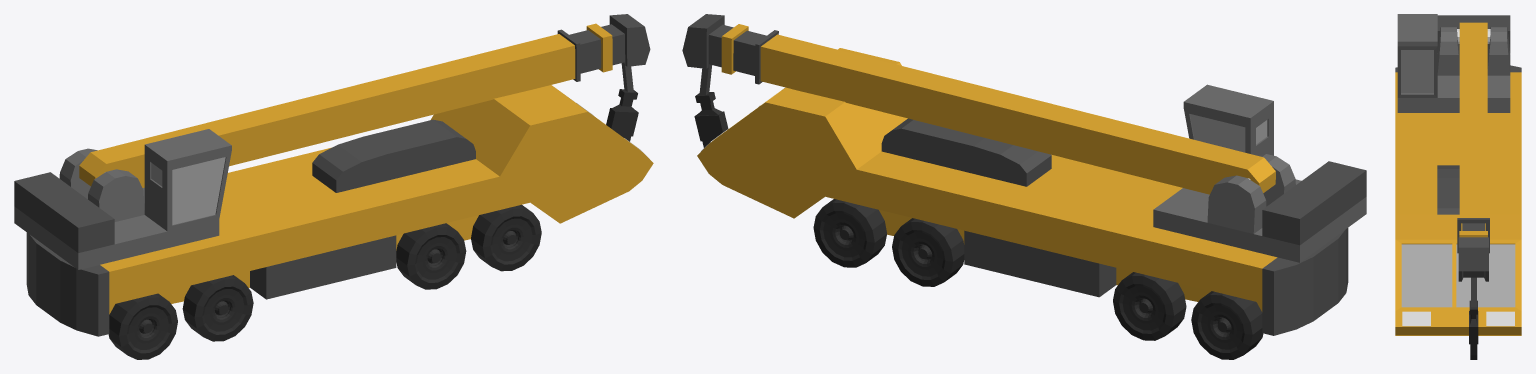
The picture shows the model from 3 angles, left to right: view 1: azimuth 30°, elevation 25°; view 2: azimuth 150°, elevation 25°; view 3: azimuth 270°, elevation 25°; orthographic projection. The views are drawn at different scales.
Parts seen in each view (by area): view 1: B-7, Cube.048, Cube.500, Cylinder.086, Cylinder.052, Cylinder.082, Cylinder.084, Cube.049, Cube.054; view 2: B-7, Cube.048, Cube.500, Cylinder.083, Cylinder.087, Cylinder.053, Cylinder.085, Cube.049, Cube.054; view 3: B-7, Cube.500, Cube.048, Cube.049, Cube.054, Cube.091.
Part boxes in pixels (x1,y1,x2,y2): B-7: [26, 85, 653, 336]; Cube.048: [79, 29, 580, 187]; Cube.500: [14, 129, 231, 269]; Cylinder.086: [182, 275, 253, 341]; Cylinder.052: [396, 223, 466, 289]; Cylinder.082: [471, 204, 541, 271]; Cylinder.084: [108, 293, 177, 359]; Cube.049: [569, 14, 650, 73]; Cube.054: [606, 89, 638, 141]; B-7: [697, 48, 1348, 335]; Cube.048: [755, 30, 1275, 194]; Cube.500: [1153, 84, 1366, 262]; Cylinder.083: [813, 199, 886, 267]; Cylinder.087: [1113, 272, 1186, 340]; Cylinder.053: [892, 218, 964, 286]; Cylinder.085: [1191, 291, 1263, 359]; Cube.049: [682, 14, 766, 75]; Cube.054: [694, 92, 728, 147]; B-7: [1395, 65, 1521, 335]; Cube.500: [1397, 14, 1510, 112]; Cube.048: [1457, 22, 1489, 253]; Cube.049: [1458, 223, 1488, 281]; Cube.054: [1469, 300, 1478, 359]; Cube.091: [1471, 277, 1476, 307].
Bounding box in the file's own units: 4073 × 1242 × 835.
